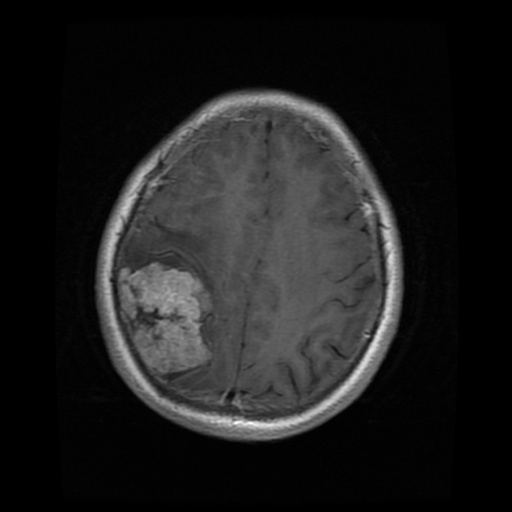meningioma: (117, 261, 212, 378)
